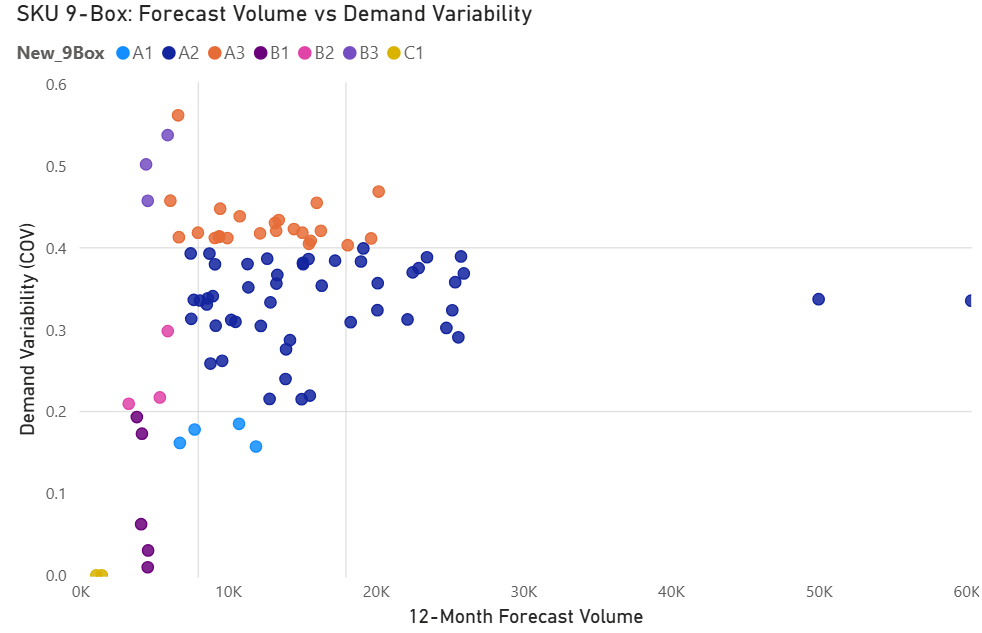

This screenshot's page, from the dashboard's own definition file:
{"tool":"powerbi","page":{"name":"Page 2","canvas":[1280,720],"ordinal":1},"visuals":[{"type":"scatterChart","title":"SKU 9-Box: Forecast Volume vs Demand Variability","fields":{"Series":["SKU_9Box_Scatter.New_9Box"],"Category":["SKU_9Box_Scatter.Bulk_SKU"],"X":["Avg(SKU_9Box_Scatter.Forecast12M)"],"Y":["Avg(SKU_9Box_Scatter.COV)"]},"box":[9.7,0,727,469.6],"z":0}]}

Visuals, with their boxes on the page's 1280x720 design canvas (x1, y1, x2, y2). These are canvas units, not pixel positions in the 982x633 screenshot, which may show the page scaled, cropped or inside an application window:
"SKU 9-Box: Forecast Volume vs Demand Variability" scatterChart: [x1=10, y1=0, x2=737, y2=470]
